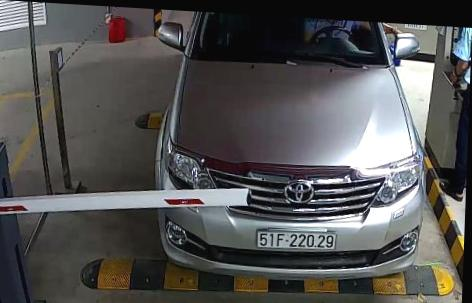License_Plate: (254, 222, 344, 258)
